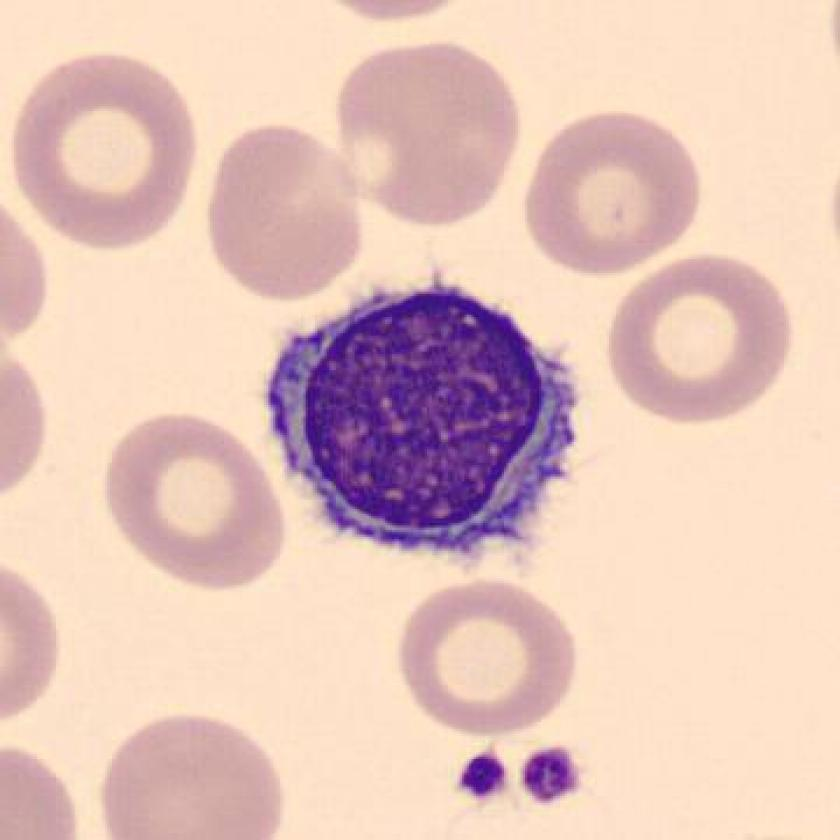lymphocyte: (253, 258, 596, 575)
platelets: (511, 738, 584, 816), (457, 747, 512, 809)
